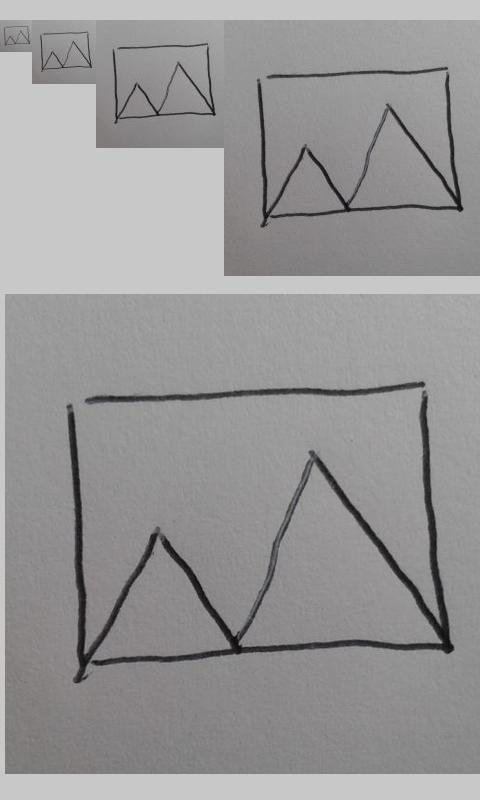image_view: (61, 381, 451, 668), (254, 66, 465, 219), (113, 43, 215, 120), (40, 31, 92, 70), (3, 25, 30, 46)
